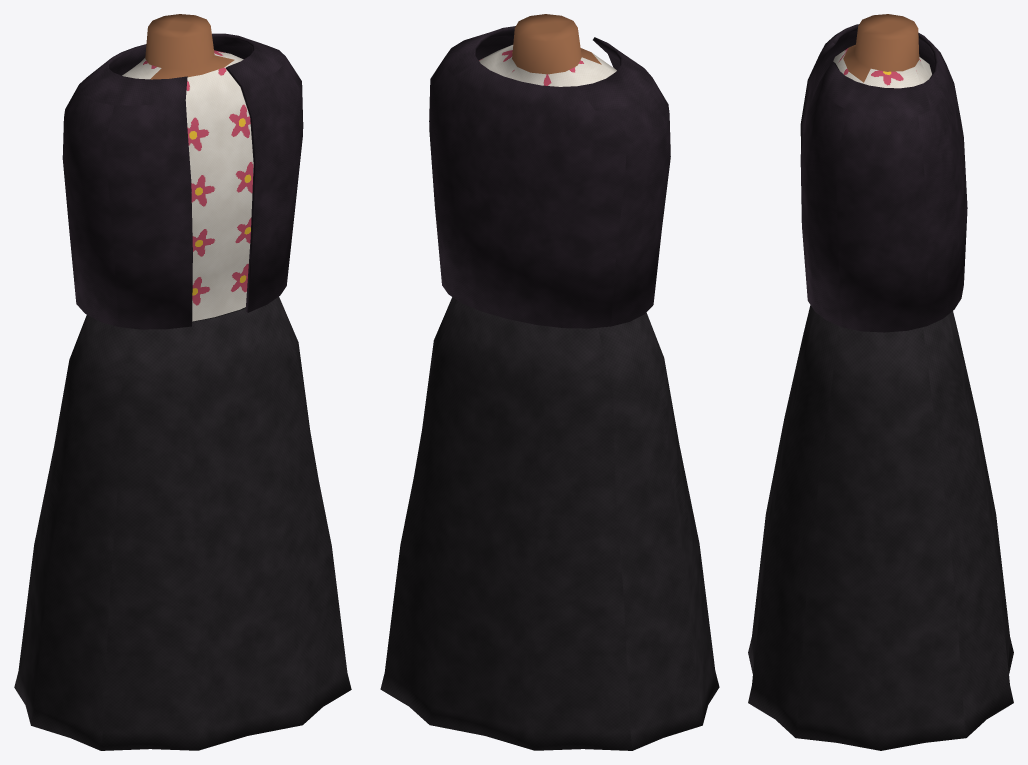
File: torso.obj
3 renders of one model, left to right at view 1: azimuth 30°, elevation 25°; view 2: azimuth 150°, elevation 25°; view 3: azimuth 270°, elevation 25°, orthographic.
Parts seen in each view (by area): view 1: Falda, Rebozo, Torso; view 2: Falda, Rebozo, Torso; view 3: Falda, Rebozo, Torso.
Boxes of the visible parts, x1,y1,x2,y2 form: Falda: (14,296,351,750); Rebozo: (62,33,303,329); Torso: (122,14,253,321); Falda: (380,297,719,750); Rebozo: (429,26,670,328); Torso: (479,14,616,86); Falda: (748,305,1013,750); Rebozo: (800,24,967,332); Torso: (833,14,931,88).
Size of the model in its own units: 0.5356 by 1.11 by 0.4115.
Materials: 4 (4 with a texture image).
